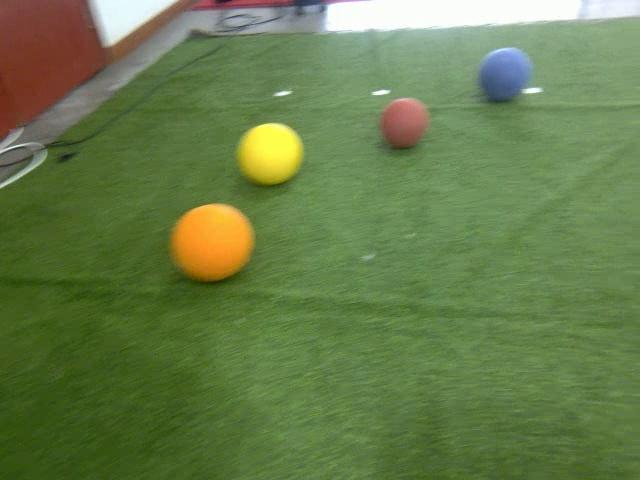blue_ball: (477, 46, 532, 102)
orange_ball: (166, 202, 255, 283)
red_ball: (380, 97, 429, 148)
yellow_ball: (235, 122, 302, 185)
